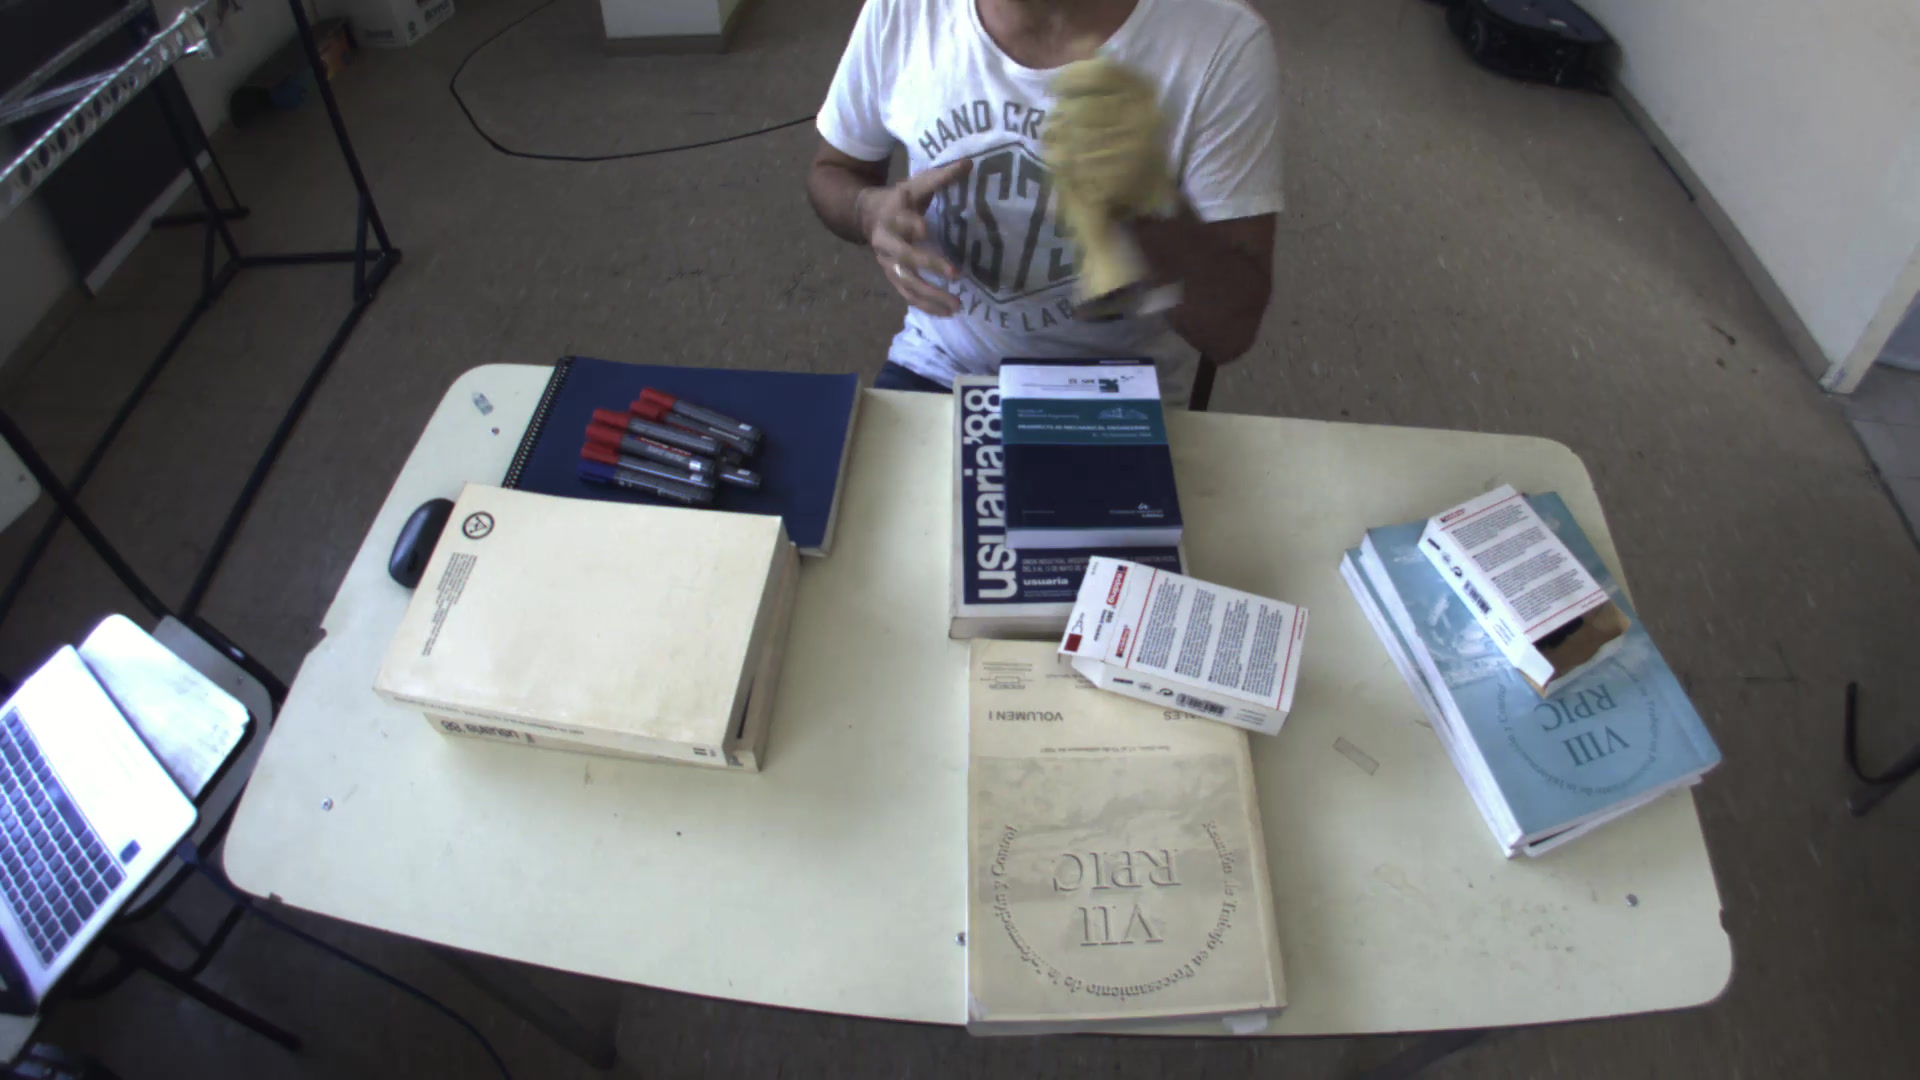hand: (844, 152, 982, 322)
